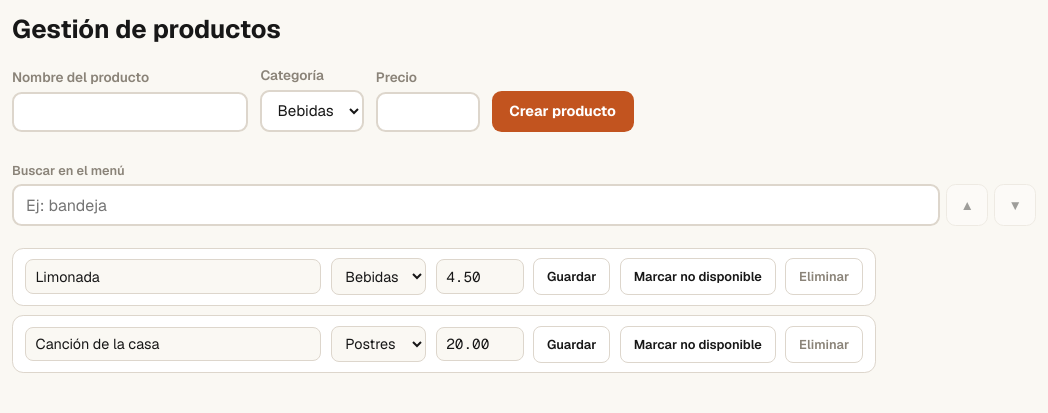
Scenario: ProductosManagement (T39, RF-2/3/4/5) › highlights the product row that matches the search, ignoring case and accents
This screenshot has width=1048, height=413.
Expected: the 2nd field showing "Canción de la casa" is shown, [25,327,321,361]
In the search field labelled "Buscar en el menú": (476, 205) [12,184,940,226], type "cancion"
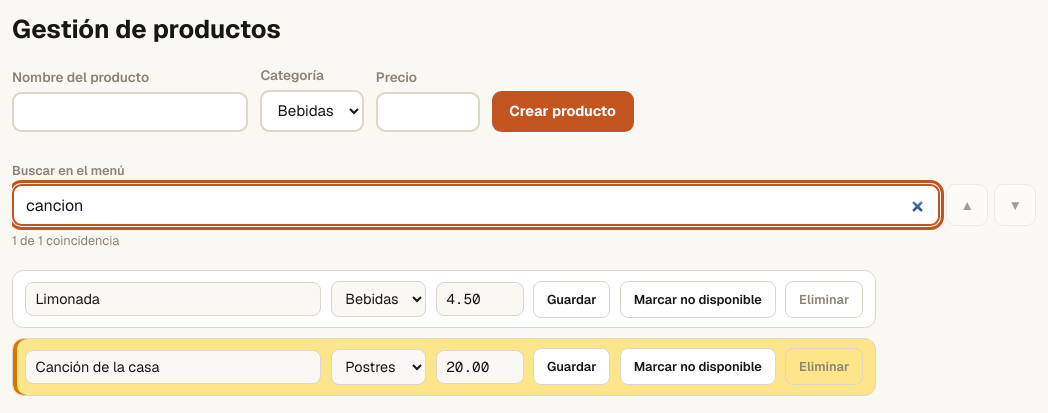
Expected: the 1st field showing "Limonada" is shown, [25,282,321,316]
Expected: the text "1 de 1 coincidencia" is shown, [12,232,119,249]
